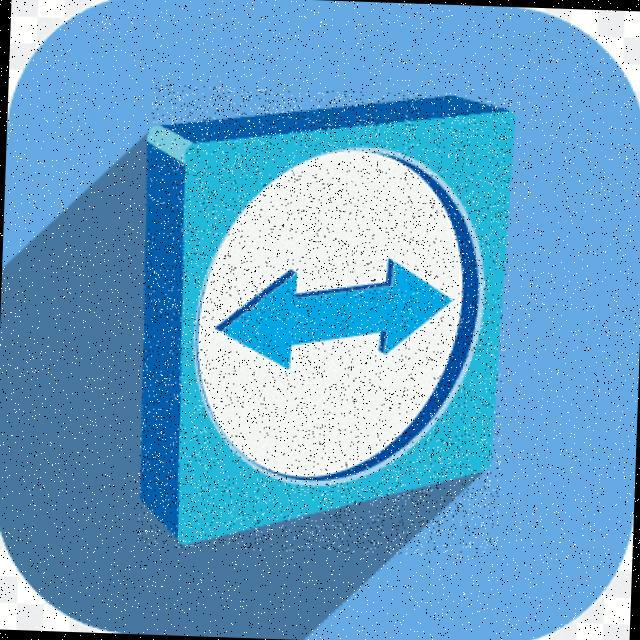TeamViewer: (136, 85, 513, 559)
